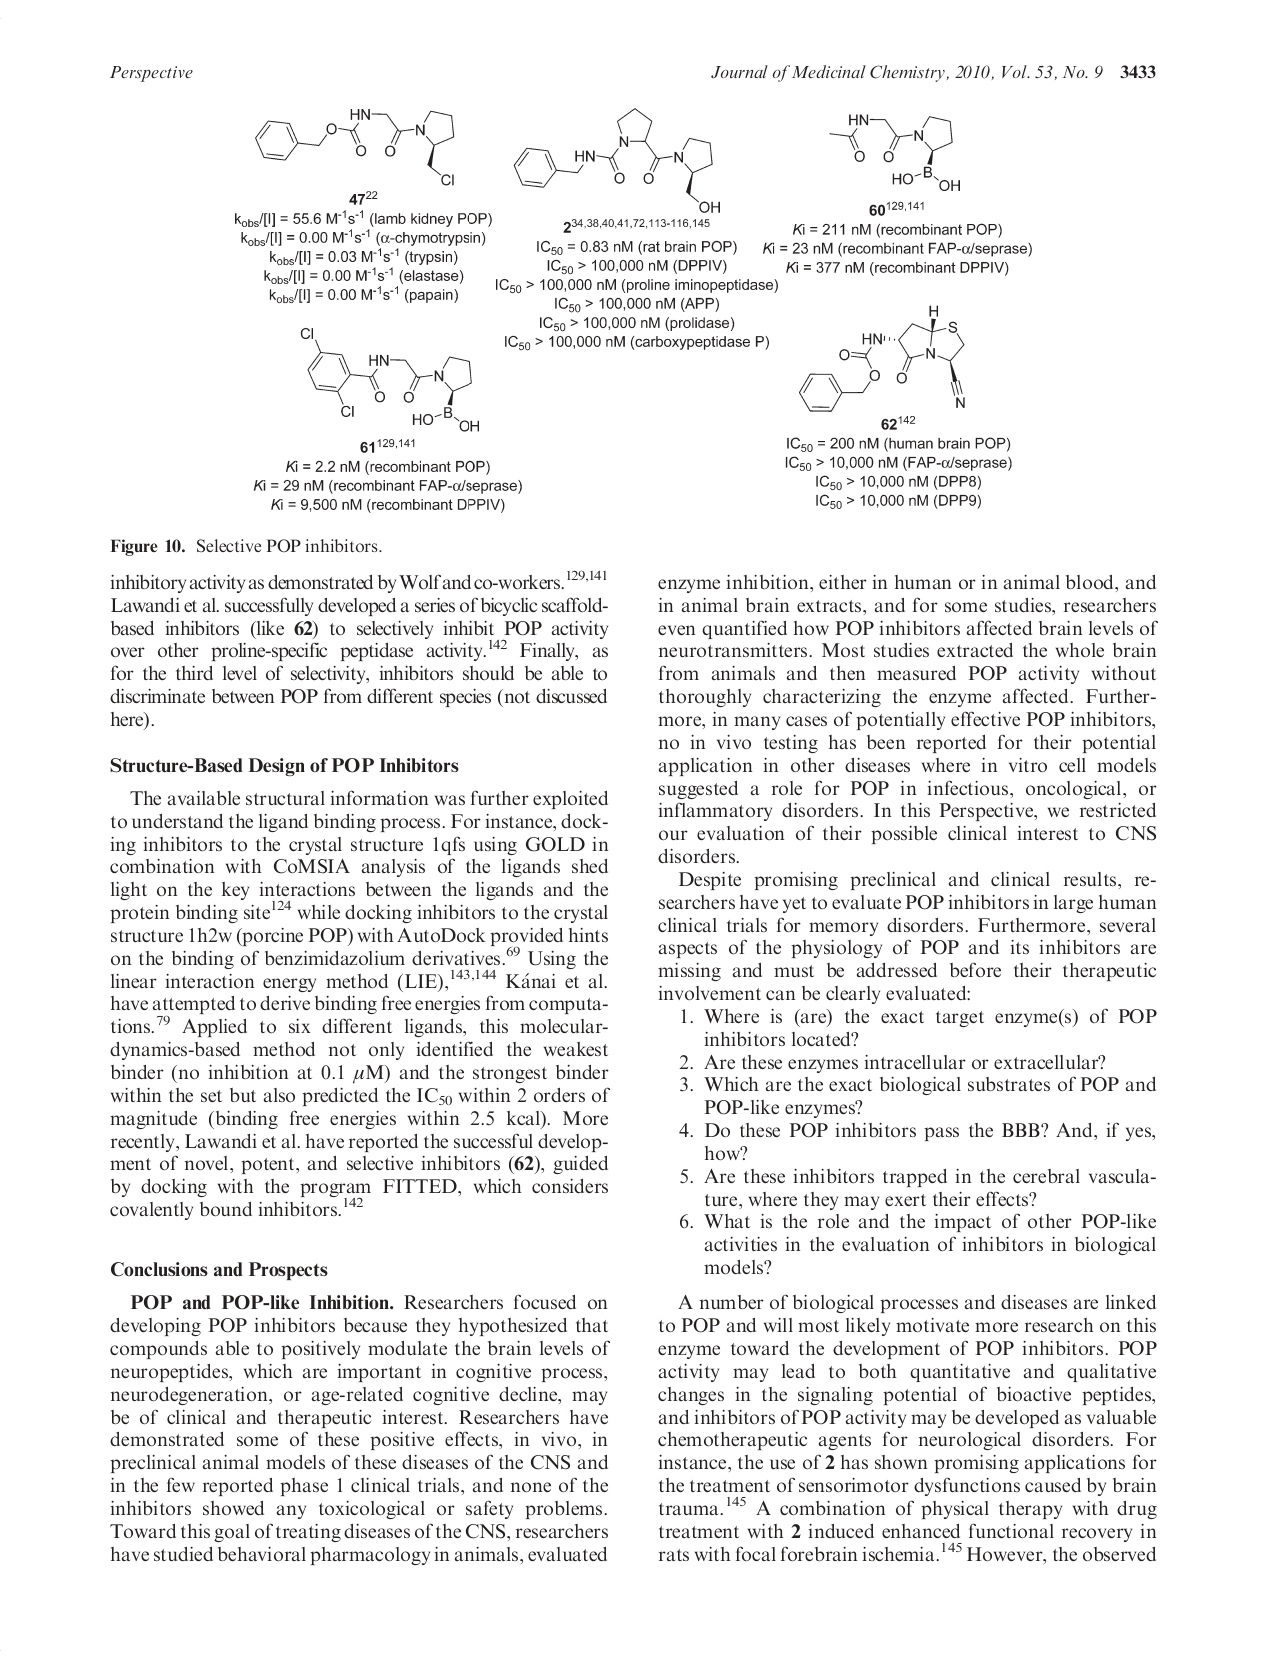exist_molecular: (512, 106, 723, 215), (298, 323, 481, 434), (797, 302, 968, 414), (253, 106, 457, 189), (827, 110, 964, 193)
